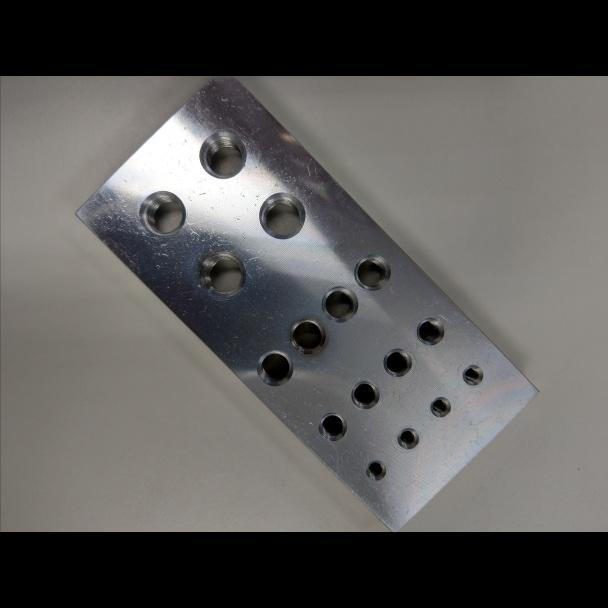hole: (198, 129, 247, 180), (258, 190, 306, 240), (198, 250, 247, 298), (137, 189, 186, 237), (288, 317, 326, 356), (353, 253, 391, 291), (320, 285, 358, 323), (256, 349, 293, 387), (349, 380, 380, 410), (382, 348, 412, 378), (416, 317, 445, 346), (318, 412, 347, 441), (461, 364, 484, 387), (396, 427, 419, 449), (365, 459, 386, 482), (430, 395, 451, 417)
